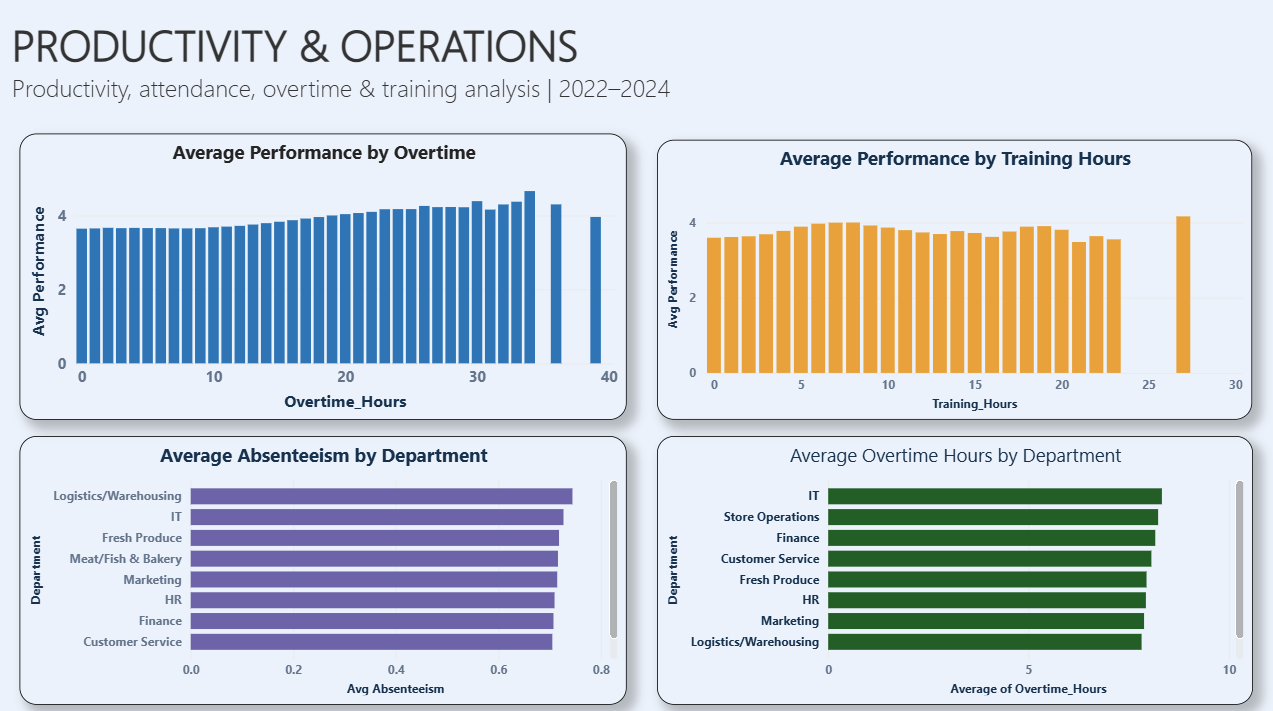

This screenshot's page, from the dashboard's own definition file:
{"tool":"powerbi","page":{"name":"PRODUCTIVITY & OPERATIONS","canvas":[1280,720],"ordinal":2},"visuals":[{"type":"textbox","box":[10,13.3,1270,110],"z":0},{"type":"clusteredColumnChart","title":"Average Performance by Overtime","fields":{"Category":["monthly_performance_clean.Overtime_Hours"],"Y":["business_outcomes_clean.Avg Performance"]},"box":[0,143.3,595,286.7],"z":1000},{"type":"clusteredColumnChart","title":"Average Performance by Training Hours","fields":{"Category":["monthly_performance_clean.Training_Hours"],"Y":["business_outcomes_clean.Avg Performance"]},"box":[640,143.3,595,280],"z":2000},{"type":"clusteredBarChart","title":"Average Absenteeism by Department","fields":{"Category":["employees_clean.Department"],"Y":["business_outcomes_clean.Avg Absenteeism"]},"box":[0,440,595,280],"z":3000},{"type":"clusteredBarChart","title":"Average Overtime Hours by Department","fields":{"Category":["employees_clean.Department"],"Y":["Avg(monthly_performance_clean.Overtime_Hours)"]},"box":[640,440,595,280],"z":4000}]}

Visuals, with their boxes in screenshot pixels (x1, y1, x2, y2), scaled from the page's 1280x720 canvas onto the 1273x711 screenshot:
textbox: BBox(10, 13, 1272, 122)
"Average Performance by Overtime" clusteredColumnChart: BBox(0, 142, 592, 425)
"Average Performance by Training Hours" clusteredColumnChart: BBox(636, 142, 1228, 418)
"Average Absenteeism by Department" clusteredBarChart: BBox(0, 434, 592, 710)
"Average Overtime Hours by Department" clusteredBarChart: BBox(636, 434, 1228, 710)
